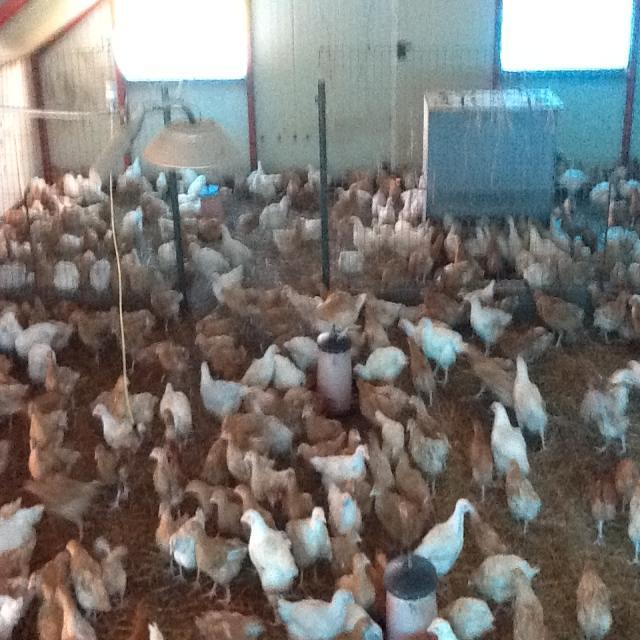poussin: (182, 516, 248, 607), (22, 462, 103, 536), (239, 507, 301, 603), (464, 554, 538, 616), (578, 382, 636, 458), (412, 500, 472, 572), (284, 287, 374, 334), (568, 549, 614, 640), (510, 353, 553, 448), (530, 281, 585, 353), (284, 503, 332, 585), (277, 588, 351, 640), (88, 444, 140, 518), (366, 480, 423, 546), (404, 416, 452, 492), (501, 449, 541, 538), (488, 400, 534, 475), (466, 331, 512, 406), (64, 538, 109, 614), (508, 563, 550, 640), (190, 324, 250, 377), (462, 291, 516, 349), (168, 509, 210, 582), (92, 534, 132, 610), (150, 498, 188, 578), (434, 594, 500, 640), (417, 315, 458, 389), (240, 446, 290, 506), (350, 376, 415, 422), (24, 569, 66, 640), (229, 478, 278, 538), (390, 444, 434, 509), (86, 402, 143, 452), (115, 302, 155, 373), (310, 442, 370, 489), (19, 434, 81, 478), (146, 330, 190, 392), (240, 396, 294, 446), (582, 475, 619, 546), (358, 282, 417, 326), (53, 584, 99, 640), (12, 318, 76, 358), (195, 360, 248, 408), (219, 282, 278, 325), (348, 346, 408, 388), (588, 284, 632, 340), (188, 608, 264, 640), (68, 308, 112, 363), (222, 427, 266, 482), (0, 495, 43, 551), (333, 594, 385, 640), (335, 554, 373, 616), (370, 402, 408, 462), (296, 426, 350, 468), (146, 280, 190, 330), (296, 402, 348, 444), (404, 340, 438, 404), (408, 388, 446, 444), (144, 444, 178, 506), (468, 416, 494, 496), (0, 534, 31, 601), (158, 381, 192, 442), (207, 488, 250, 536), (22, 401, 72, 442), (240, 340, 281, 390), (360, 428, 396, 483), (326, 482, 364, 534), (324, 526, 366, 573), (89, 371, 130, 417), (31, 545, 70, 593), (180, 472, 224, 514), (410, 228, 450, 274), (278, 466, 312, 520), (44, 348, 82, 396), (384, 217, 428, 258), (213, 218, 252, 264), (136, 184, 182, 223), (476, 228, 507, 283), (186, 240, 236, 274), (0, 578, 27, 640), (246, 153, 278, 204), (62, 166, 106, 203), (522, 208, 554, 258), (67, 244, 98, 295), (258, 191, 293, 236), (609, 456, 640, 505), (603, 354, 640, 394), (204, 268, 246, 302), (0, 380, 31, 426), (112, 152, 143, 198), (393, 178, 423, 225), (358, 304, 390, 348), (613, 168, 640, 220), (436, 260, 486, 288), (440, 213, 468, 263), (568, 218, 598, 264), (546, 211, 572, 264), (121, 249, 152, 292), (397, 314, 432, 352), (27, 340, 57, 384), (625, 487, 640, 572), (350, 214, 380, 256), (78, 220, 115, 254), (348, 162, 373, 212), (606, 228, 640, 264), (339, 180, 359, 240), (464, 210, 488, 260), (374, 158, 396, 211), (335, 422, 362, 465), (127, 386, 160, 421), (0, 258, 32, 294), (558, 162, 590, 198), (78, 196, 115, 227), (370, 190, 400, 228), (0, 217, 27, 259), (607, 256, 640, 290), (11, 198, 48, 228), (0, 308, 24, 354), (156, 409, 179, 456), (300, 163, 330, 199), (32, 248, 56, 292), (56, 258, 82, 298), (119, 204, 146, 242), (518, 254, 550, 286), (295, 211, 326, 244), (26, 178, 60, 208), (88, 257, 114, 296), (175, 192, 199, 234), (52, 198, 83, 230), (337, 613, 373, 640), (56, 228, 86, 260), (29, 212, 58, 245), (176, 167, 206, 197), (336, 247, 366, 276), (506, 218, 524, 266), (426, 615, 460, 640), (282, 158, 302, 200), (589, 176, 616, 207), (273, 220, 297, 254), (625, 292, 640, 346), (158, 238, 181, 270), (104, 254, 122, 294), (154, 210, 175, 240), (235, 208, 259, 234), (150, 166, 168, 198), (200, 217, 221, 240)
